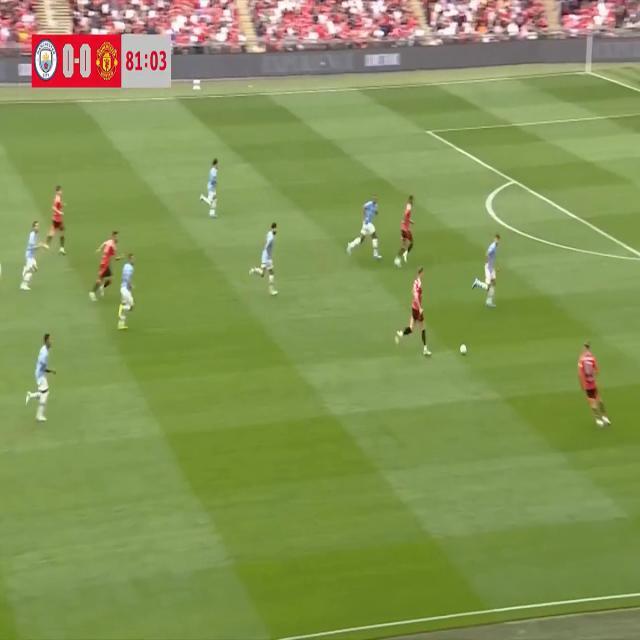ball: (459, 336, 468, 364)
players: (392, 260, 435, 360), (574, 338, 617, 433), (86, 221, 125, 310), (246, 210, 282, 300), (24, 324, 56, 423), (344, 192, 383, 269), (471, 222, 501, 318), (114, 249, 140, 340), (394, 190, 418, 283), (46, 177, 72, 262), (20, 216, 44, 296), (196, 150, 222, 223)
